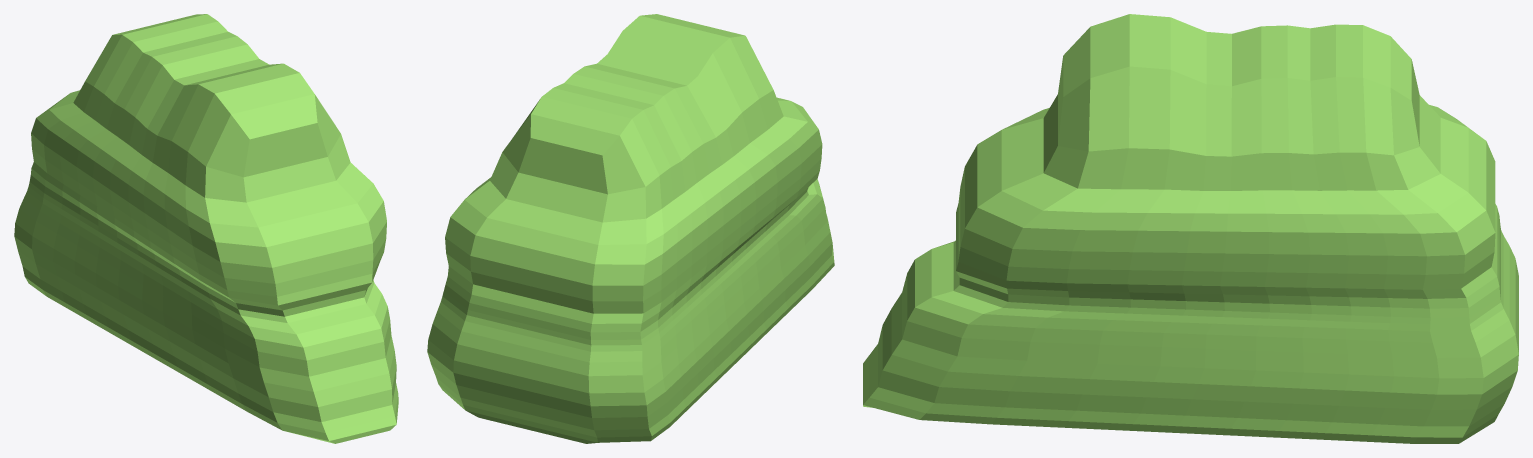
The model's file is arbusto3.fbx.
The picture shows the model from 3 angles, left to right: view 1: azimuth 30°, elevation 25°; view 2: azimuth 150°, elevation 25°; view 3: azimuth 270°, elevation 25°; orthographic projection. The views are drawn at different scales.
Parts seen in each view (by area): view 1: Cubo; view 2: Cubo; view 3: Cubo.
Boxes of the visible parts, x1,y1,x2,y2 form: Cubo: [14, 14, 398, 443]; Cubo: [427, 14, 834, 443]; Cubo: [863, 14, 1518, 443].
Size of the model in its own units: 82.43 by 105 by 179.
